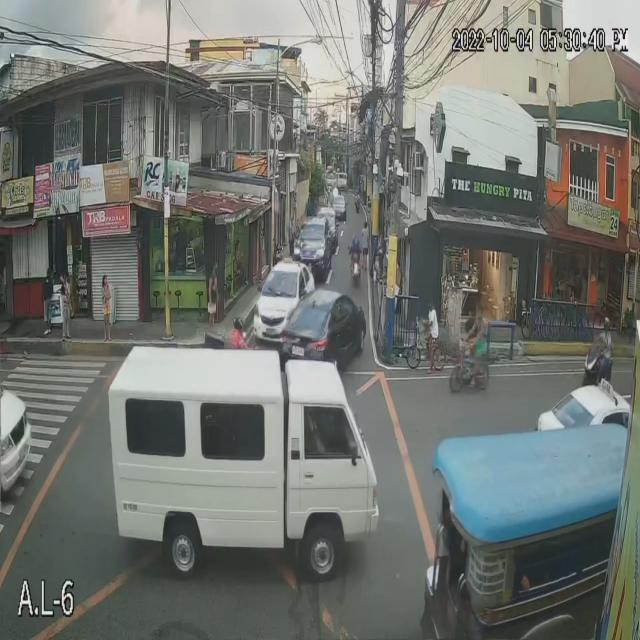full: (232, 314, 244, 331)
